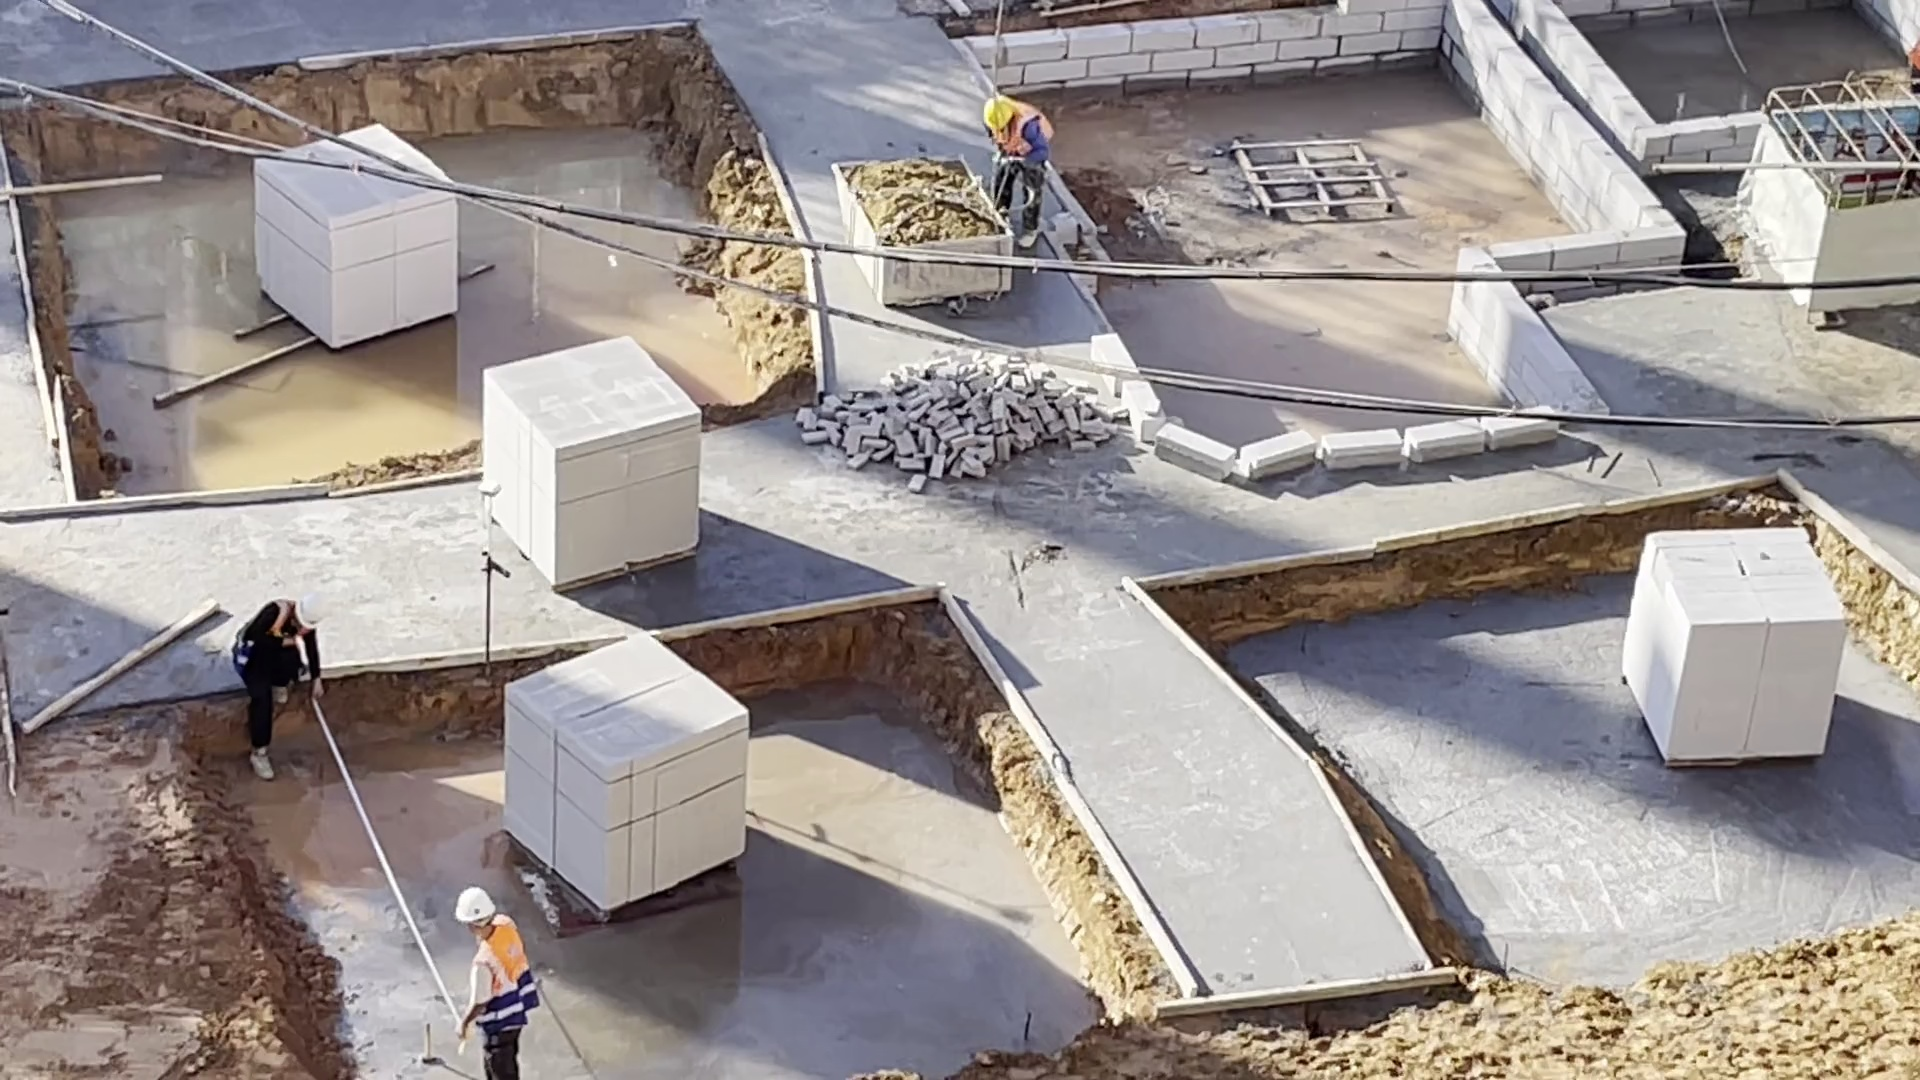brick: (505, 627, 754, 911), (1608, 527, 1864, 771), (478, 330, 702, 597), (246, 189, 460, 368)
helmet: (449, 885, 497, 929), (294, 591, 326, 628), (982, 94, 1014, 127)
hopper: (832, 152, 976, 252)
person: (444, 879, 551, 1080), (236, 589, 333, 780), (975, 91, 1056, 250)
vest: (471, 914, 541, 1028)
